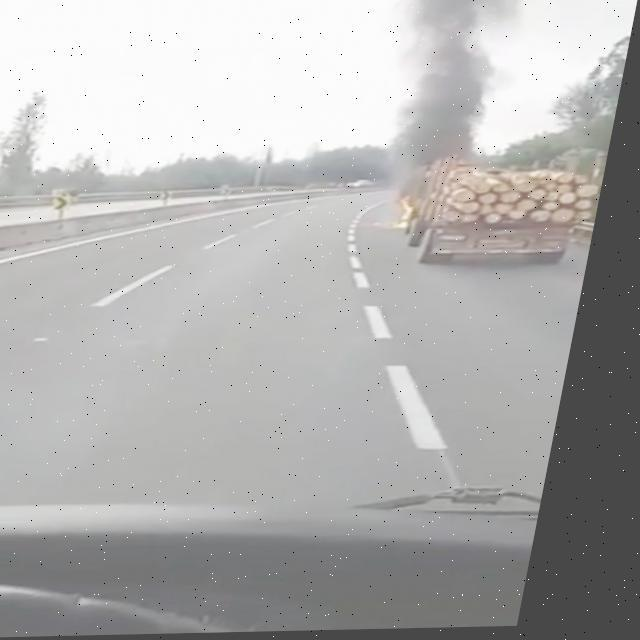Fire: (398, 200, 431, 229)
